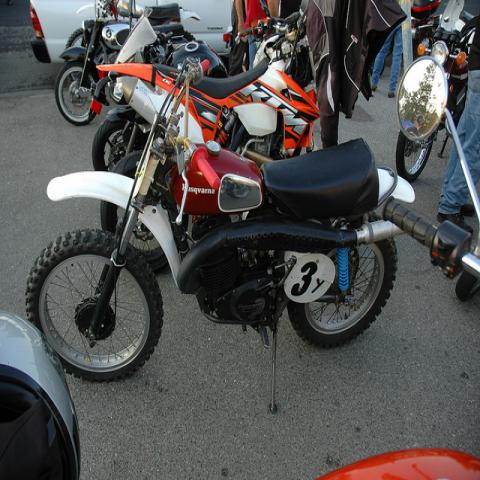car: (27, 1, 232, 64)
motorcycle: (27, 58, 415, 419), (89, 3, 321, 172), (386, 58, 480, 288), (397, 5, 471, 182), (54, 17, 138, 128), (107, 18, 228, 81), (323, 448, 479, 474)
